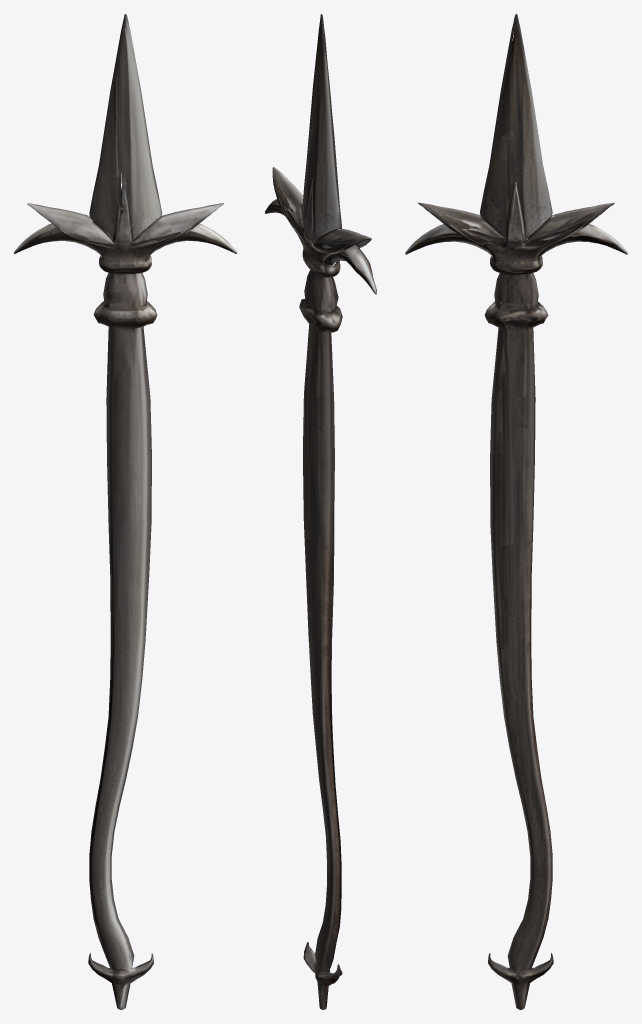
The model's file is F02_poppy_nurse_needle.glb.
3 renders of one model, left to right at view 1: azimuth 90°, elevation 25°; view 2: azimuth 210°, elevation 25°; view 3: azimuth 270°, elevation 25°, orthographic.
Parts seen in each view (by area): view 1: tripo_1222a66b_a530_44b4_8679_48eac7adb3ec; view 2: tripo_1222a66b_a530_44b4_8679_48eac7adb3ec; view 3: tripo_1222a66b_a530_44b4_8679_48eac7adb3ec.
Part boxes in pixels (x1=…): tripo_1222a66b_a530_44b4_8679_48eac7adb3ec: x1=14, y1=14, x2=236, y2=1009; tripo_1222a66b_a530_44b4_8679_48eac7adb3ec: x1=265, y1=14, x2=376, y2=1009; tripo_1222a66b_a530_44b4_8679_48eac7adb3ec: x1=405, y1=14, x2=627, y2=1009.
Size of the model in its own units: 0.0298 by 0.9995 by 0.2026.
1 material, 1 textured.
